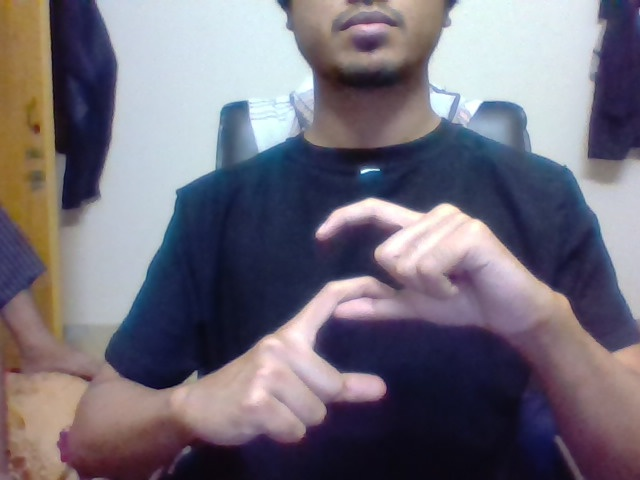S: (300, 197, 395, 405)
